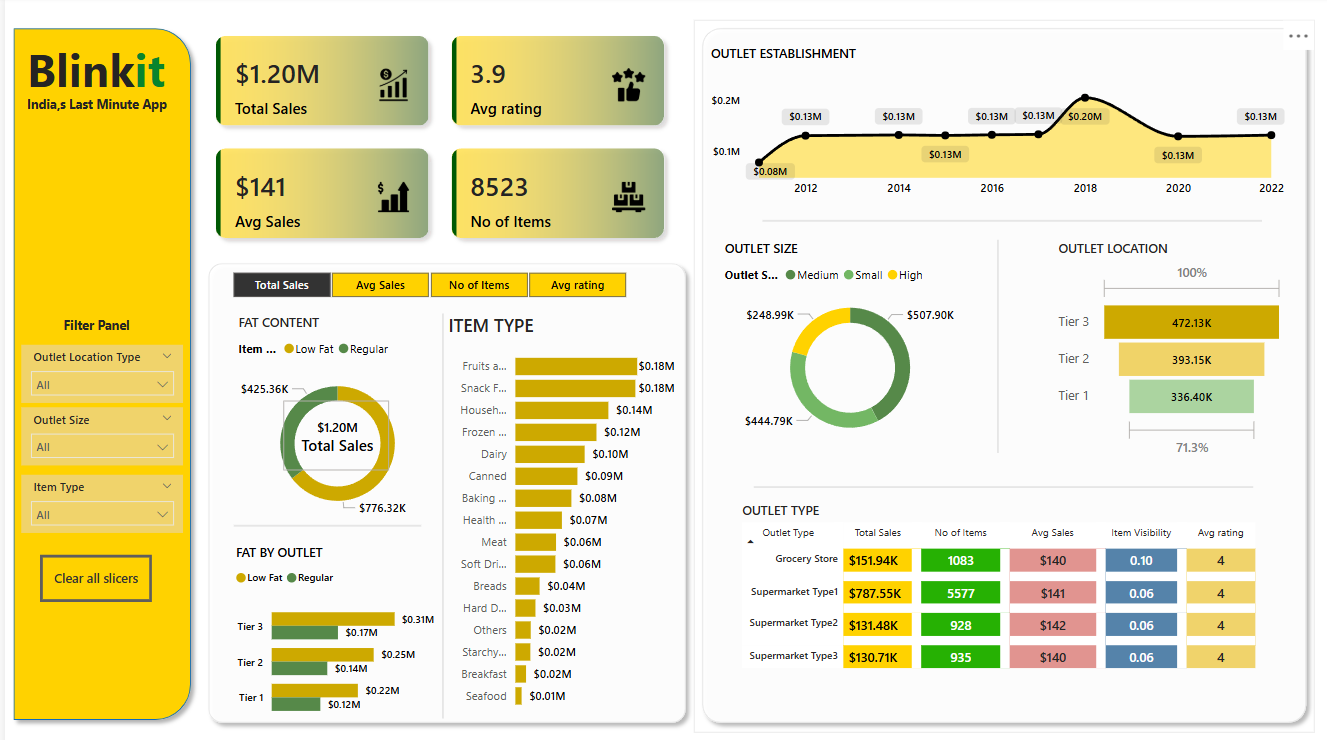

This screenshot's page, from the dashboard's own definition file:
{"tool":"powerbi","page":{"name":"Page 1","canvas":[1400,800],"ordinal":0},"visuals":[{"type":"shape","box":[0,25.7,205.7,750],"z":0},{"type":"textbox","box":[10,40,171.4,78.6],"z":1000},{"type":"textbox","box":[0,100,194.3,37.1],"z":2000},{"type":"cardVisual","fields":{"Data":["BlinkIT Grocery Data.Total Sales","BlinkIT Grocery Data.Avg rating","BlinkIT Grocery Data.Avg Sales","BlinkIT Grocery Data.No of Items"]},"box":[205.7,25.7,508.6,248.6],"z":3000},{"type":"shape","box":[205.7,274.3,522.9,504.3],"z":4000},{"type":"donutChart","title":"FAT CONTENT","fields":{"Y":["BlinkIT Grocery Data.Total Sales"],"Category":["BlinkIT Grocery Data.Item Fat Content"]},"box":[241.4,335.7,220,230],"z":5000},{"type":"slicer","fields":{"Values":["Metrics.Metrics"]},"box":[215.7,285.7,465.7,40],"z":6000},{"type":"cardVisual","fields":{"Data":["BlinkIT Grocery Data.Total Sales"]},"box":[290,422.9,122.9,84.3],"z":7000},{"type":"clusteredBarChart","title":"FAT BY OUTLET","fields":{"Y":["BlinkIT Grocery Data.Total Sales"],"Category":["BlinkIT Grocery Data.Outlet Location Type"],"Series":["BlinkIT Grocery Data.Item Fat Content"]},"box":[240,580,220,198.6],"z":8000},{"type":"shape","box":[241.4,555.7,198.6,10],"z":9000},{"type":"shape","box":[448.6,335.7,30,428.6],"z":10000},{"type":"barChart","title":"ITEM TYPE","fields":{"Y":["BlinkIT Grocery Data.Total Sales"],"Category":["BlinkIT Grocery Data.Item Type"]},"box":[464.3,335.7,250,428.6],"z":11000},{"type":"shape","box":[728.6,25.7,657.1,752.9],"z":12000},{"type":"lineChart","title":"OUTLET ESTABLISHMENT","fields":{"Y":["BlinkIT Grocery Data.Total Sales"],"Category":["BlinkIT Grocery Data.Outlet Establishment Year"]},"box":[741.4,51.4,617.1,170],"z":13000},{"type":"donutChart","title":"OUTLET SIZE","fields":{"Y":["BlinkIT Grocery Data.Total Sales"],"Category":["BlinkIT Grocery Data.Outlet Size"]},"box":[757.1,258.6,275.7,225.7],"z":14000},{"type":"shape","box":[1035.7,258.6,30,225.7],"z":15000},{"type":"funnel","title":"OUTLET LOCATION","fields":{"Y":["Sum(BlinkIT Grocery Data.Sales)"],"Category":["BlinkIT Grocery Data.Outlet Location Type"]},"box":[1110,258.6,248.6,235.7],"z":16000},{"type":"shape","box":[792.9,512.9,528.6,12.9],"z":17000},{"type":"pivotTable","title":"OUTLET TYPE","fields":{"Rows":["BlinkIT Grocery Data.Outlet Type"],"Values":["BlinkIT Grocery Data.Total Sales","BlinkIT Grocery Data.No of Items","BlinkIT Grocery Data.Avg Sales","Avg(BlinkIT Grocery Data.Item Visibility)","BlinkIT Grocery Data.Avg rating"]},"box":[775.7,534.3,554.3,212.9],"z":18000},{"type":"shape","box":[801.4,231.4,528.6,12.9],"z":19000},{"type":"slicer","fields":{"Values":["BlinkIT Grocery Data.Outlet Location Type"]},"box":[17.1,368.6,171.4,61.4],"z":20000},{"type":"slicer","fields":{"Values":["BlinkIT Grocery Data.Outlet Size"]},"box":[17.1,435.7,171.4,61.4],"z":21000},{"type":"slicer","fields":{"Values":["BlinkIT Grocery Data.Item Type"]},"box":[17.1,507.1,171.4,61.4],"z":22000},{"type":"textbox","box":[38.6,334.3,117.1,37.1],"z":23000},{"type":"actionButton","box":[37.1,591.4,118.6,50],"z":24000}]}

Visuals, with their boxes in screenshot pixels (x1, y1, x2, y2), scaled from the page's 1400x800 canvas onto the 1327x740 screenshot:
shape: select_region(0, 24, 195, 718)
textbox: select_region(9, 37, 172, 110)
textbox: select_region(0, 92, 184, 127)
cardVisual - BlinkIT Grocery Data.Total Sales x BlinkIT Grocery Data.Avg rating: select_region(195, 24, 677, 254)
shape: select_region(195, 254, 691, 720)
"FAT CONTENT" donutChart: select_region(229, 311, 437, 523)
slicer - Metrics.Metrics: select_region(204, 264, 646, 301)
cardVisual - BlinkIT Grocery Data.Total Sales: select_region(275, 391, 391, 469)
"FAT BY OUTLET" clusteredBarChart: select_region(227, 536, 436, 720)
shape: select_region(229, 514, 417, 523)
shape: select_region(425, 311, 454, 707)
"ITEM TYPE" barChart: select_region(440, 311, 677, 707)
shape: select_region(691, 24, 1313, 720)
"OUTLET ESTABLISHMENT" lineChart: select_region(703, 48, 1288, 205)
"OUTLET SIZE" donutChart: select_region(718, 239, 979, 448)
shape: select_region(982, 239, 1010, 448)
"OUTLET LOCATION" funnel: select_region(1052, 239, 1288, 457)
shape: select_region(752, 474, 1253, 486)
"OUTLET TYPE" pivotTable: select_region(735, 494, 1261, 691)
shape: select_region(760, 214, 1261, 226)
slicer - BlinkIT Grocery Data.Outlet Location Type: select_region(16, 341, 179, 398)
slicer - BlinkIT Grocery Data.Outlet Size: select_region(16, 403, 179, 460)
slicer - BlinkIT Grocery Data.Item Type: select_region(16, 469, 179, 526)
textbox: select_region(37, 309, 148, 344)
actionButton: select_region(35, 547, 148, 593)
